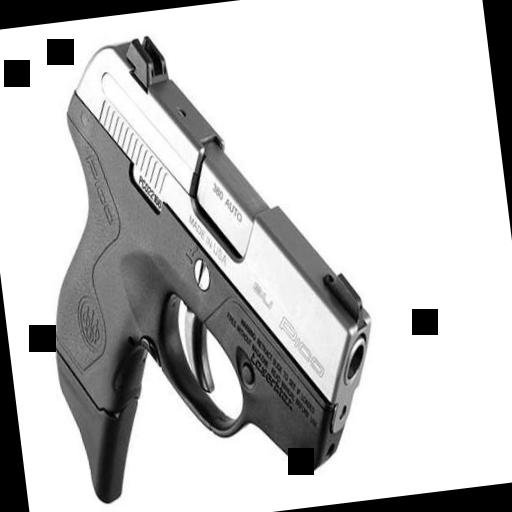Handgun: (0, 2, 388, 509)
